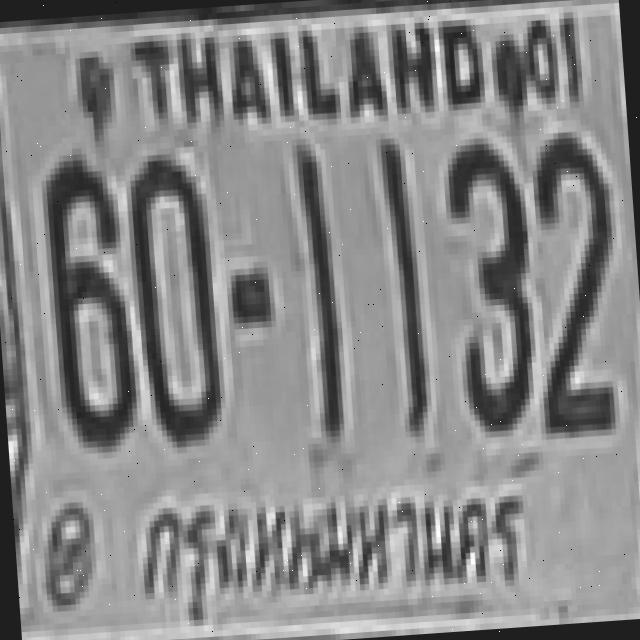0: (128, 151, 228, 443)
2: (527, 126, 619, 388)
3: (442, 138, 536, 430)
6: (42, 154, 141, 446)
Bangkok: (122, 470, 540, 623)
